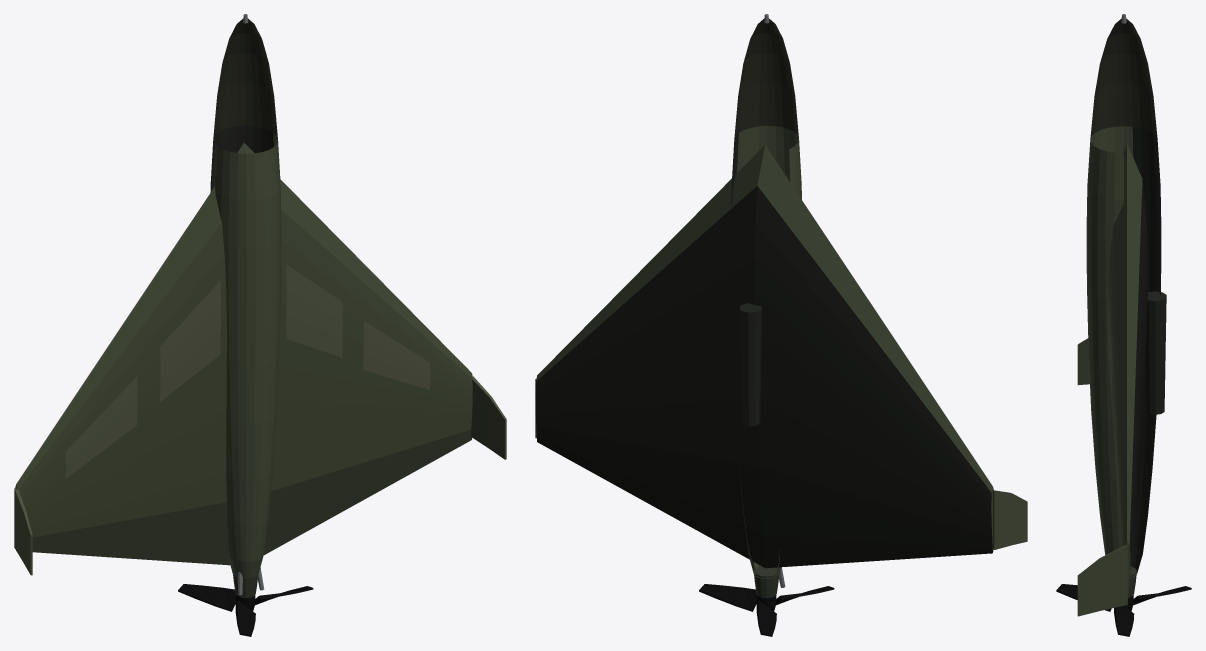
File: shahed136.obj
The picture shows the model from 3 angles, left to right: view 1: azimuth 30°, elevation 25°; view 2: azimuth 150°, elevation 25°; view 3: azimuth 270°, elevation 25°; orthographic projection.
Parts seen in each view (by area): view 1: Delta_wing, Fuselage, Wing_panel, Tip_fin_R, Tip_fin_L, Prop_blade_3; view 2: Delta_wing, Fuselage, Belly_pod, Tip_fin_L, Prop_blade_1, Engine_rear; view 3: Fuselage, Delta_wing, Tip_fin_R, Belly_pod, Wing_panel, Tip_fin_L, Prop_blade_1, Prop_blade_3, Prop_blade_2.
Part boxes in pixels (x1,y1,x2,y2): Delta_wing: (15,143,472,565); Fuselage: (210,18,281,578); Wing_panel: (65,264,430,478); Tip_fin_R: (470,376,506,459); Tip_fin_L: (14,488,32,575); Prop_blade_3: (178,584,235,611); Delta_wing: (535,145,993,568); Fuselage: (731,18,801,578); Belly_pod: (739,303,762,426); Tip_fin_L: (993,490,1027,549); Prop_blade_1: (699,584,756,611); Engine_rear: (753,566,778,598); Fuselage: (1086,18,1161,577); Delta_wing: (1108,144,1147,606); Tip_fin_R: (1077,545,1127,616); Belly_pod: (1145,291,1166,414); Wing_panel: (1108,286,1119,521); Tip_fin_L: (1077,338,1089,385); Prop_blade_1: (1114,605,1134,636); Prop_blade_3: (1133,586,1191,605); Prop_blade_2: (1056,584,1111,611).
Size of the model in its own units: 2.61 by 3.22 by 0.6431.
